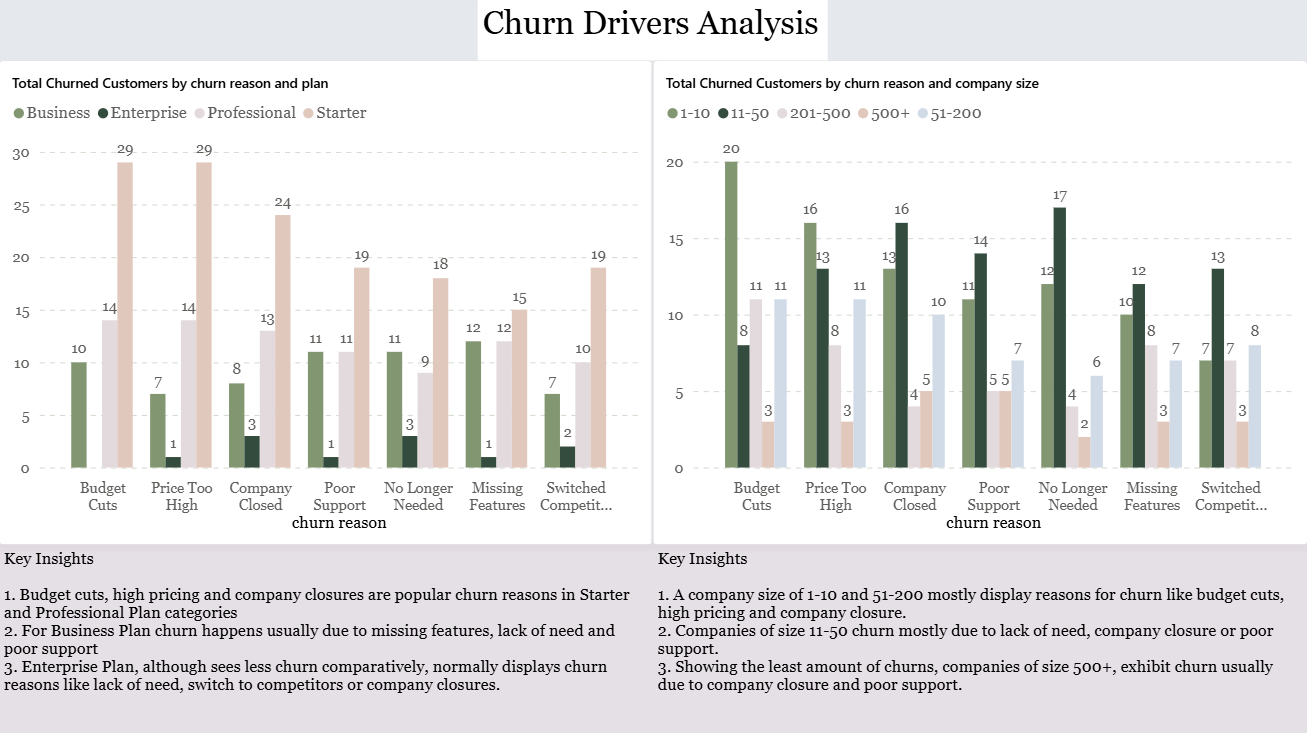

This screenshot's page, from the dashboard's own definition file:
{"tool":"powerbi","page":{"name":"Churn Drivers Analysis","canvas":[1280,720],"ordinal":2},"visuals":[{"type":"clusteredColumnChart","fields":{"Category":["subscriptions_cleaned.churn_reason"],"Series":["subscriptions_cleaned.plan"],"Y":["subscriptions_cleaned.Total Churned Customers"]},"box":[0,59.9,639.5,474.5],"z":0},{"type":"clusteredColumnChart","fields":{"Category":["subscriptions_cleaned.churn_reason"],"Series":["subscriptions_cleaned.company_size"],"Y":["subscriptions_cleaned.Total Churned Customers"]},"box":[639.5,59.9,640.8,474.5],"z":1000},{"type":"textbox","box":[468.3,0,342.4,59.9],"z":2000},{"type":"textbox","box":[0,533.2,639.5,187.1],"z":3000},{"type":"textbox","box":[639.5,533.2,640.8,187.1],"z":4000}]}

Visuals, with their boxes in screenshot pixels (x1, y1, x2, y2), scaled from the page's 1280x720 canvas onto the 1307x733 screenshot:
clusteredColumnChart - subscriptions_cleaned.churn_reason x subscriptions_cleaned.plan: <region>0, 61, 653, 544</region>
clusteredColumnChart - subscriptions_cleaned.churn_reason x subscriptions_cleaned.company_size: <region>653, 61, 1306, 544</region>
textbox: <region>478, 0, 828, 61</region>
textbox: <region>0, 543, 653, 732</region>
textbox: <region>653, 543, 1306, 732</region>
